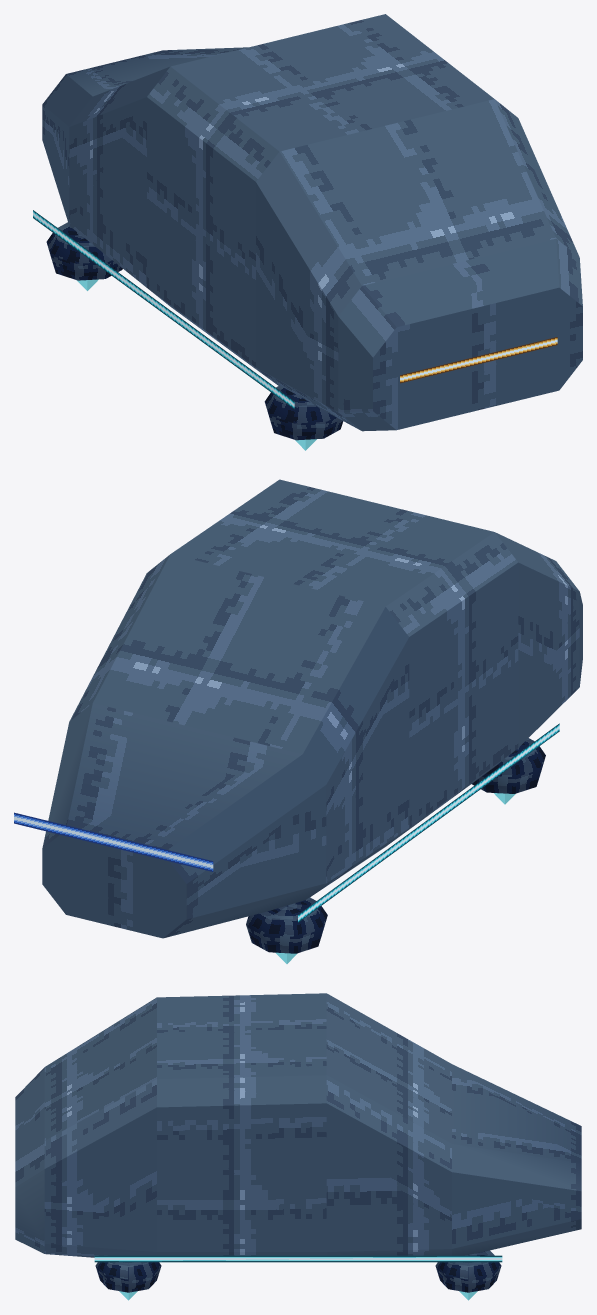
Rendered from cytech.hovercar__van.glb.
The picture shows the model from 3 angles, top to bottom: view 1: azimuth 30°, elevation 25°; view 2: azimuth 150°, elevation 25°; view 3: azimuth 270°, elevation 25°; orthographic projection. The views are drawn at different scales.
Visible parts, largest first — view 1: kit_hull, kit_pods, kit_card_lights; view 2: kit_hull, kit_pods, kit_card_lights; view 3: kit_hull, kit_pods, kit_card_lights.
Boxes of the visible parts, x1,y1,x2,y2 form: kit_hull: (42, 14, 582, 431); kit_pods: (46, 222, 343, 450); kit_card_lights: (33, 210, 557, 409); kit_hull: (42, 479, 582, 938); kit_pods: (246, 738, 545, 963); kit_card_lights: (14, 723, 559, 922); kit_hull: (15, 993, 581, 1257); kit_pods: (95, 1250, 501, 1300); kit_card_lights: (94, 1255, 502, 1262).
Size of the model in its own units: 2.08 by 2.14 by 4.82.
3 materials, 3 textured.
